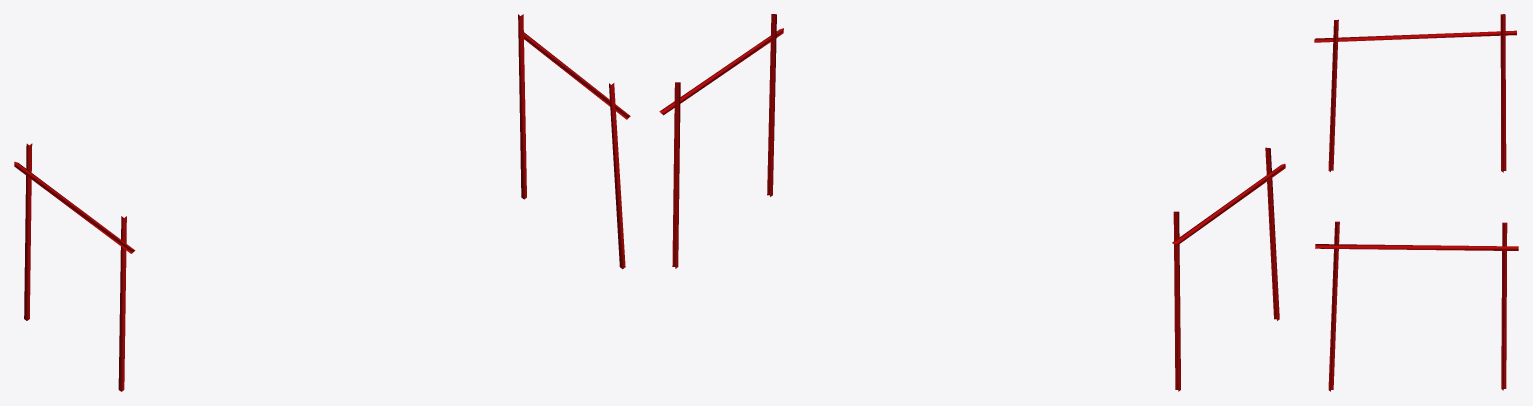
Rendered from canopy_2.glb.
3 renders of one model, left to right at view 1: azimuth 30°, elevation 25°; view 2: azimuth 150°, elevation 25°; view 3: azimuth 270°, elevation 25°, orthographic. The views are drawn at different scales.
Parts seen in each view (by area): view 1: MODEL_s_bazaar_lod0; view 2: MODEL_s_bazaar_lod0; view 3: MODEL_s_bazaar_lod0.
Boxes of the visible parts, x1=… form: MODEL_s_bazaar_lod0: x1=14, y1=14, x2=630, y2=391; MODEL_s_bazaar_lod0: x1=659, y1=14, x2=1285, y2=391; MODEL_s_bazaar_lod0: x1=1314, y1=14, x2=1518, y2=391.
Size of the model in its own units: 3.06 by 1.06 by 1.18.
